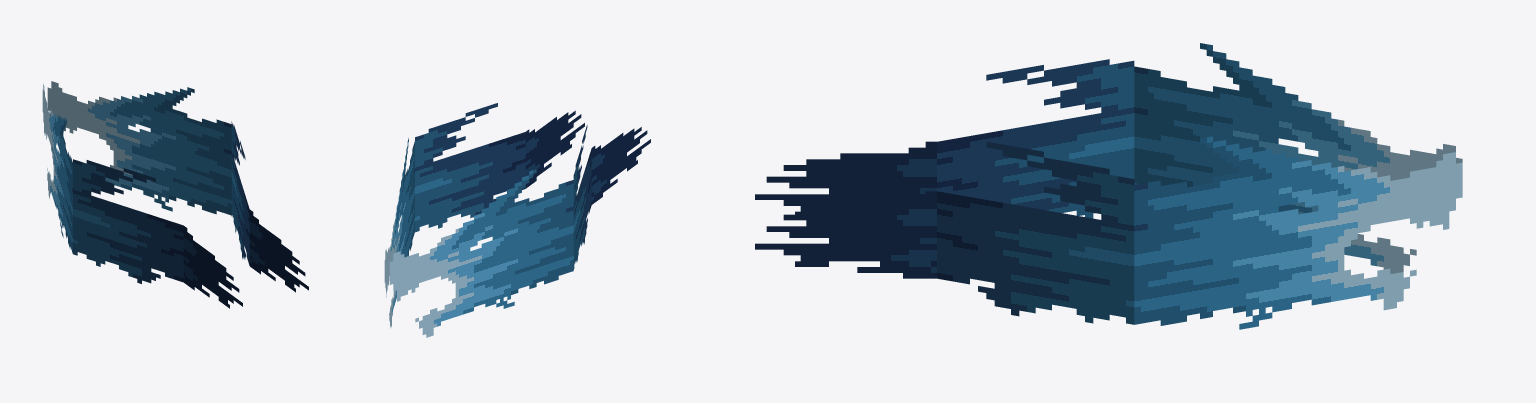
Rendered from fx_arctic_charge.gltf.
The picture shows the model from 3 angles, left to right: view 1: azimuth 30°, elevation 25°; view 2: azimuth 150°, elevation 25°; view 3: azimuth 270°, elevation 25°; orthographic projection. The views are drawn at different scales.
Visible parts, largest first — view 1: cube (×6); view 2: cube (×6); view 3: cube (×6).
Part boxes in pixels (left/top/right/bottom): cube (×6): left=42, top=81, right=308, bottom=308; cube (×6): left=384, top=103, right=650, bottom=337; cube (×6): left=755, top=43, right=1462, bottom=329.
Bounding box in the file's own units: 2.82 × 2.84 × 8.26.
Materials: 1 (1 with a texture image).
